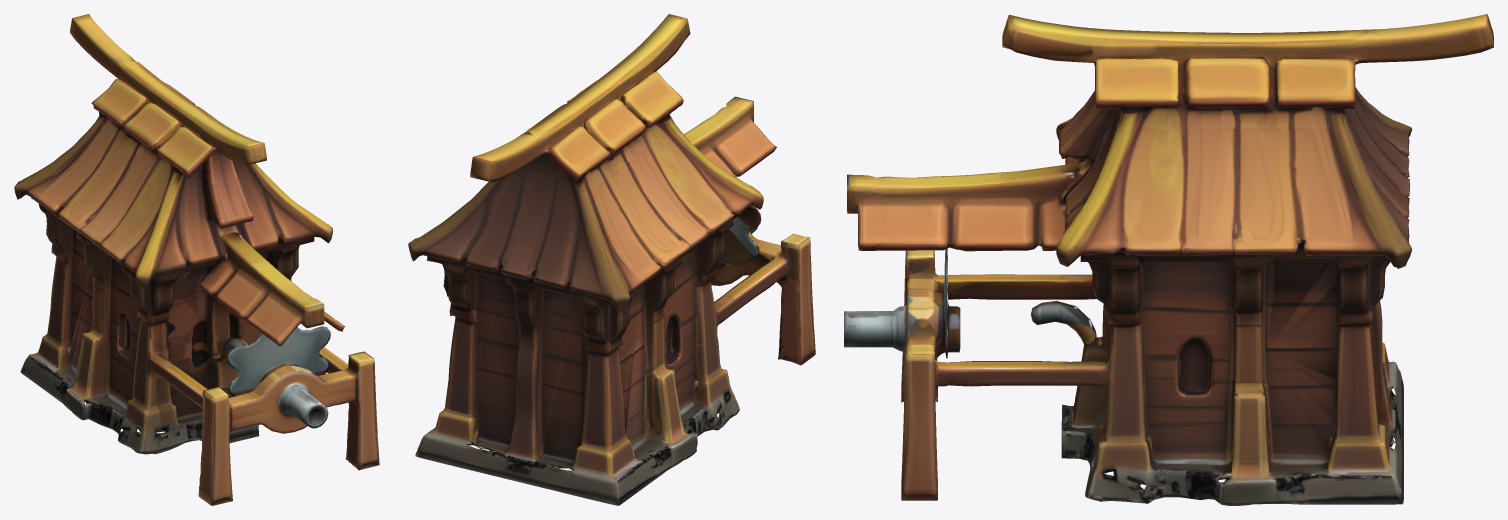
The model's file is WoodHouseEDT.fbx.
The picture shows the model from 3 angles, left to right: view 1: azimuth 30°, elevation 25°; view 2: azimuth 150°, elevation 25°; view 3: azimuth 270°, elevation 25°; orthographic projection. The views are drawn at different scales.
Visible parts, largest first — view 1: model; view 2: model; view 3: model.
Boxes of the visible parts, x1,y1,x2,y2 form: model: [14, 14, 379, 505]; model: [408, 14, 815, 505]; model: [844, 14, 1493, 505].
Bounding box in the file's own units: 91.35 × 137 × 190.
